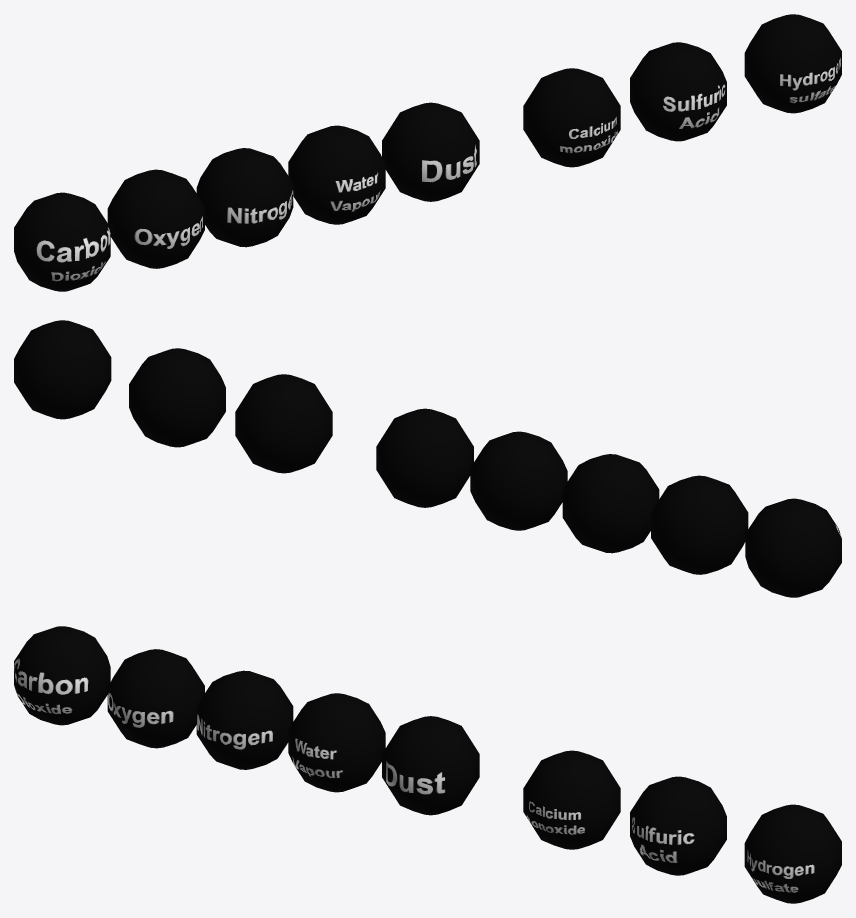
File: level 2.fbx
The picture shows the model from 3 angles, top to bottom: view 1: azimuth 30°, elevation 25°; view 2: azimuth 150°, elevation 25°; view 3: azimuth 330°, elevation 25°; orthographic projection.
Parts seen in each view (by area): view 1: carbon_dioxide_C, sulfuric_acid_W, hydrogen_sulfate_W, oxygen_C, calcium_monoxide_W, water_vapur_C, dust_C, nitrogen_C; view 2: carbon_dioxide_C, sulfuric_acid_W, hydrogen_sulfate_W, oxygen_C, calcium_monoxide_W, water_vapur_C, dust_C, nitrogen_C; view 3: carbon_dioxide_C, sulfuric_acid_W, hydrogen_sulfate_W, water_vapur_C, nitrogen_C, calcium_monoxide_W, dust_C, oxygen_C.
Boxes of the visible parts, box(x1,y1,x2,y2) form: carbon_dioxide_C: box(14, 192, 110, 291); sulfuric_acid_W: box(630, 42, 726, 141); hydrogen_sulfate_W: box(744, 14, 841, 113); oxygen_C: box(107, 169, 204, 268); calcium_monoxide_W: box(523, 68, 620, 167); water_vapur_C: box(288, 125, 385, 224); dust_C: box(382, 102, 479, 201); nitrogen_C: box(196, 148, 293, 247); carbon_dioxide_C: box(745, 498, 841, 597); sulfuric_acid_W: box(129, 348, 225, 447); hydrogen_sulfate_W: box(14, 320, 111, 419); oxygen_C: box(651, 475, 748, 574); calcium_monoxide_W: box(235, 374, 332, 473); water_vapur_C: box(470, 431, 567, 530); dust_C: box(376, 408, 473, 507); nitrogen_C: box(562, 454, 659, 553); carbon_dioxide_C: box(14, 626, 110, 725); sulfuric_acid_W: box(630, 776, 726, 875); hydrogen_sulfate_W: box(744, 804, 841, 903); water_vapur_C: box(288, 693, 385, 792); nitrogen_C: box(196, 670, 293, 769); calcium_monoxide_W: box(523, 750, 620, 849); dust_C: box(382, 716, 479, 815); oxygen_C: box(107, 649, 204, 748).
Size of the model in its own units: 597 by 61.8 by 61.8.
Materials: 1 (1 with a texture image).
